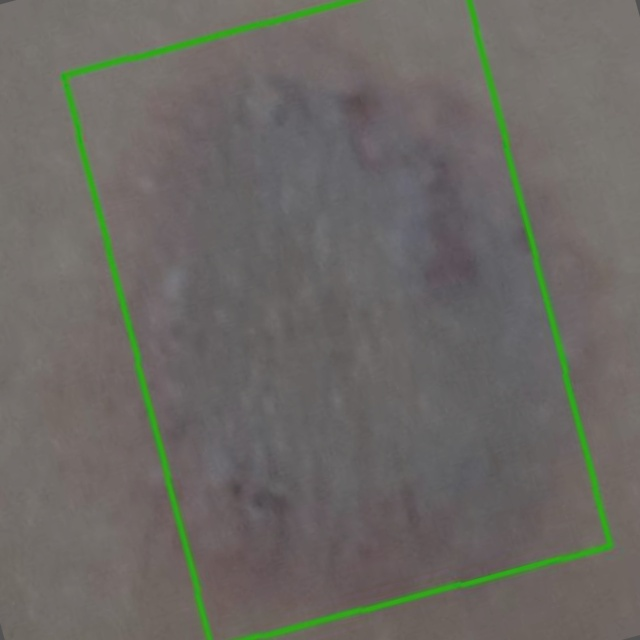Eczema: (62, 0, 610, 639)
